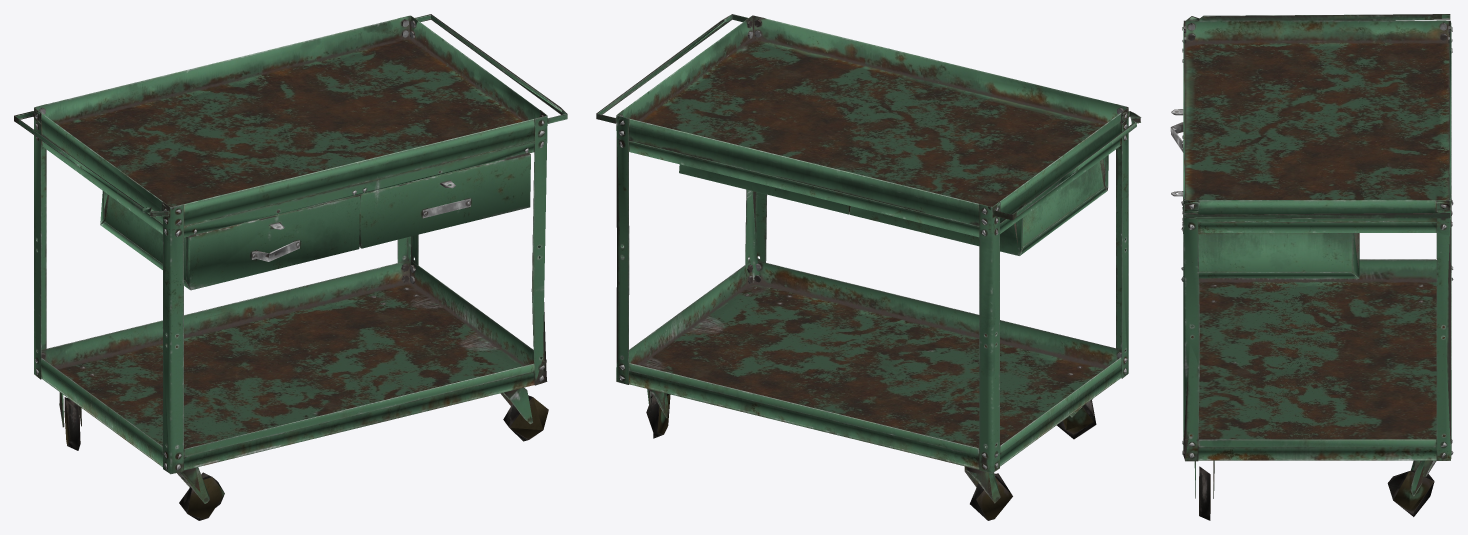
File: tool_cart.glb
The picture shows the model from 3 angles, left to right: view 1: azimuth 30°, elevation 25°; view 2: azimuth 150°, elevation 25°; view 3: azimuth 270°, elevation 25°; orthographic projection. The views are drawn at different scales.
Visible parts, largest first — view 1: tool_cart; view 2: tool_cart; view 3: tool_cart.
Part boxes in pixels (bbox=[...]): tool_cart: bbox=[14, 14, 567, 520]; tool_cart: bbox=[596, 14, 1141, 520]; tool_cart: bbox=[1170, 14, 1453, 520].
Size of the model in its own units: 1.26 by 0.9619 by 0.7536.
1 material, 1 textured.
